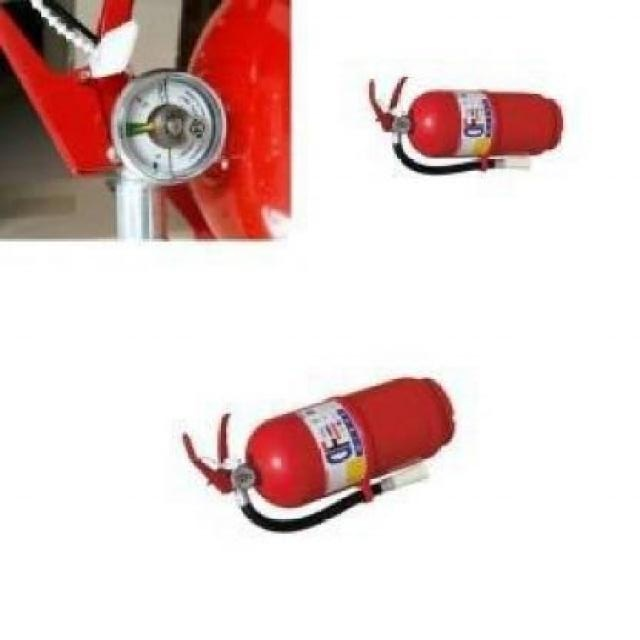fire extinguisher: (0, 0, 289, 242), (181, 375, 457, 534), (368, 77, 563, 175)
